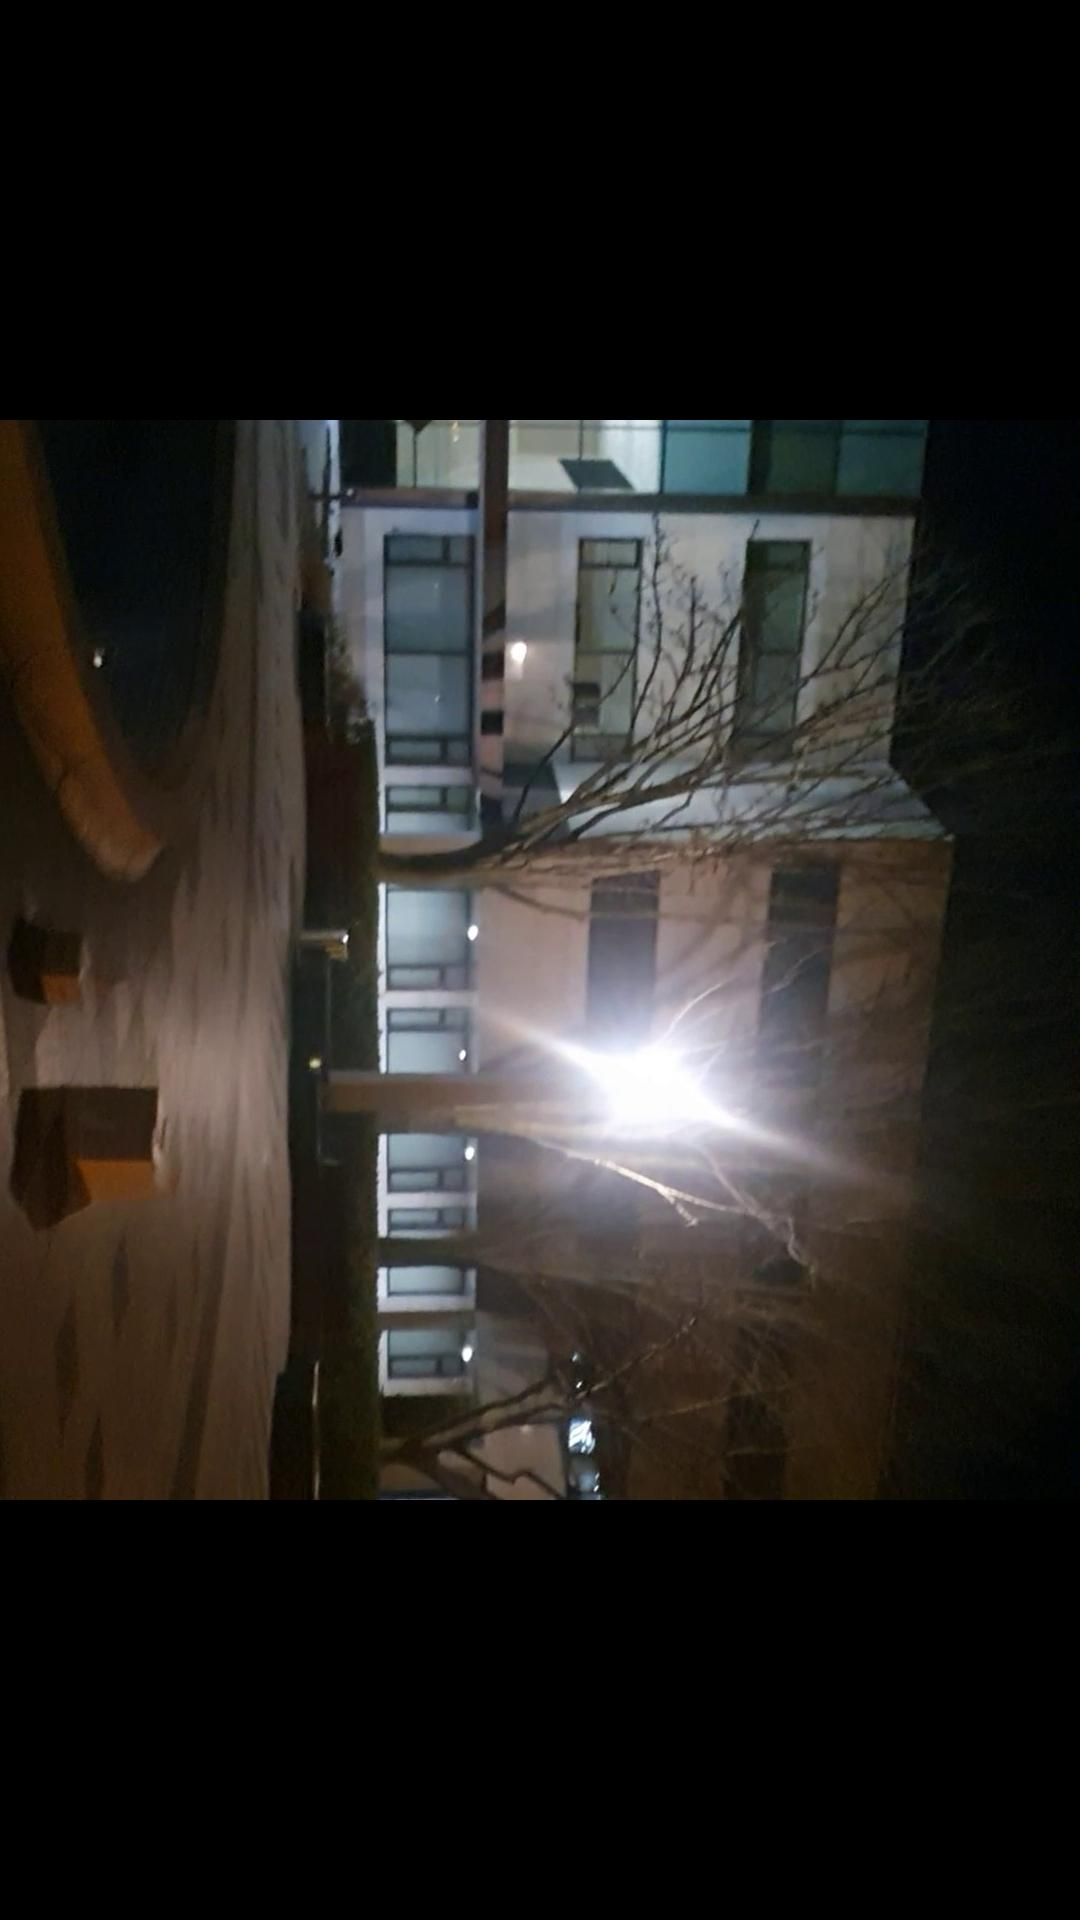Box: (45, 1076, 193, 1207), (28, 916, 105, 1023)
